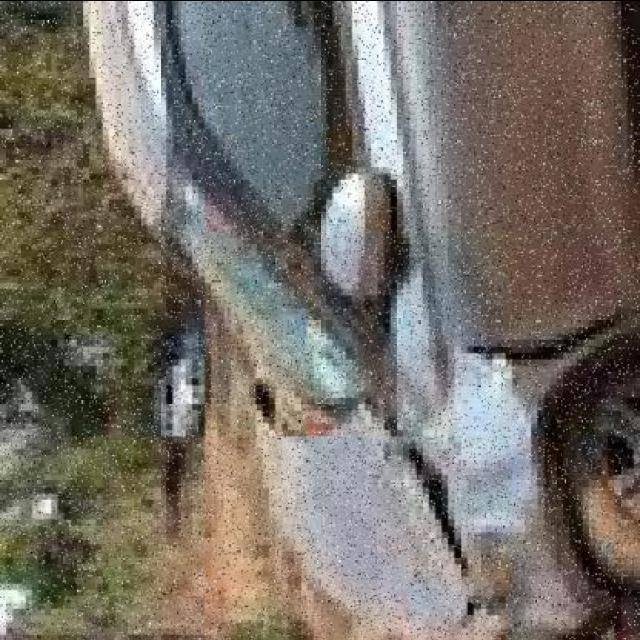bonnet-dent: (231, 410, 455, 634)
fender-dent: (448, 339, 595, 640)
